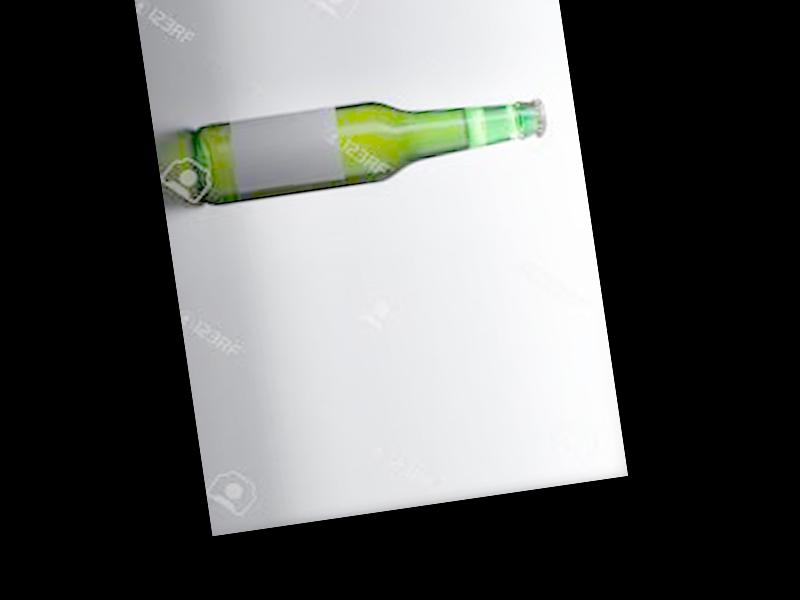Beer: (191, 75, 551, 208)
